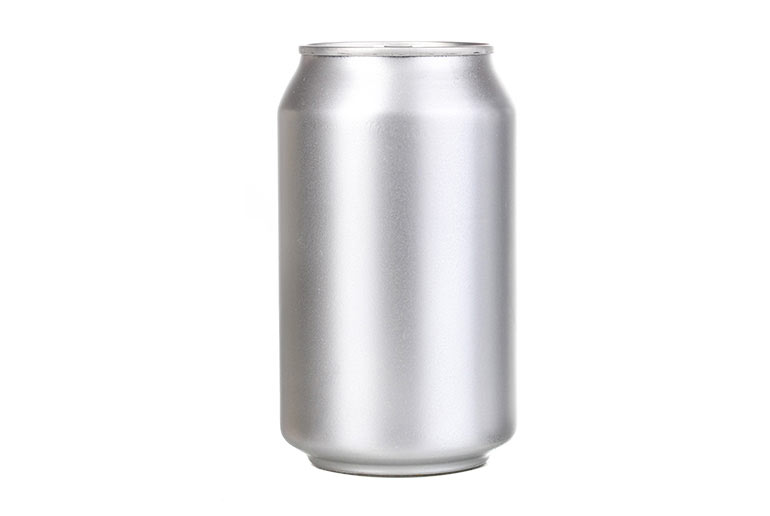beer can: (277, 40, 514, 474)
